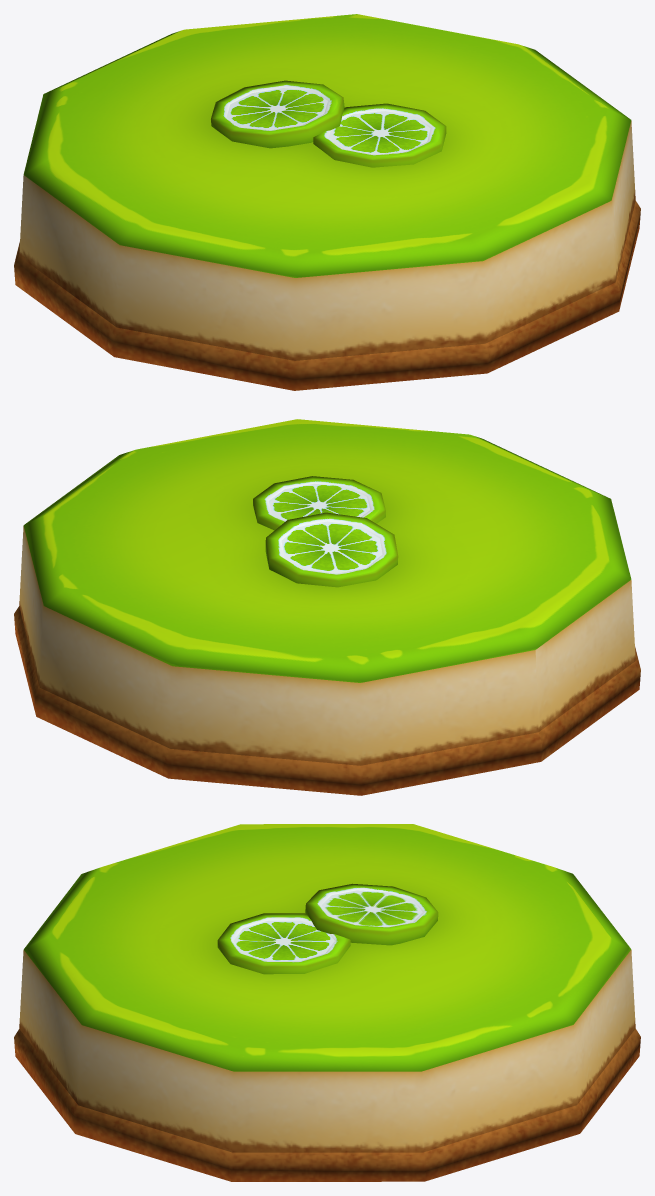
File: KeyLime_Cheesecake_Whole.fbx
3 renders of one model, top to bottom at view 1: azimuth 30°, elevation 25°; view 2: azimuth 150°, elevation 25°; view 3: azimuth 270°, elevation 25°, orthographic. The views are drawn at different scales.
Parts seen in each view (by area): view 1: KeyLime_Cheesecake_Whole; view 2: KeyLime_Cheesecake_Whole; view 3: KeyLime_Cheesecake_Whole.
Part boxes in pixels (x1,y1,x2,y2): KeyLime_Cheesecake_Whole: (14,14,640,390); KeyLime_Cheesecake_Whole: (14,419,640,795); KeyLime_Cheesecake_Whole: (14,824,640,1181).
Bounding box in the file's own units: 80 × 20.92 × 84.09.
